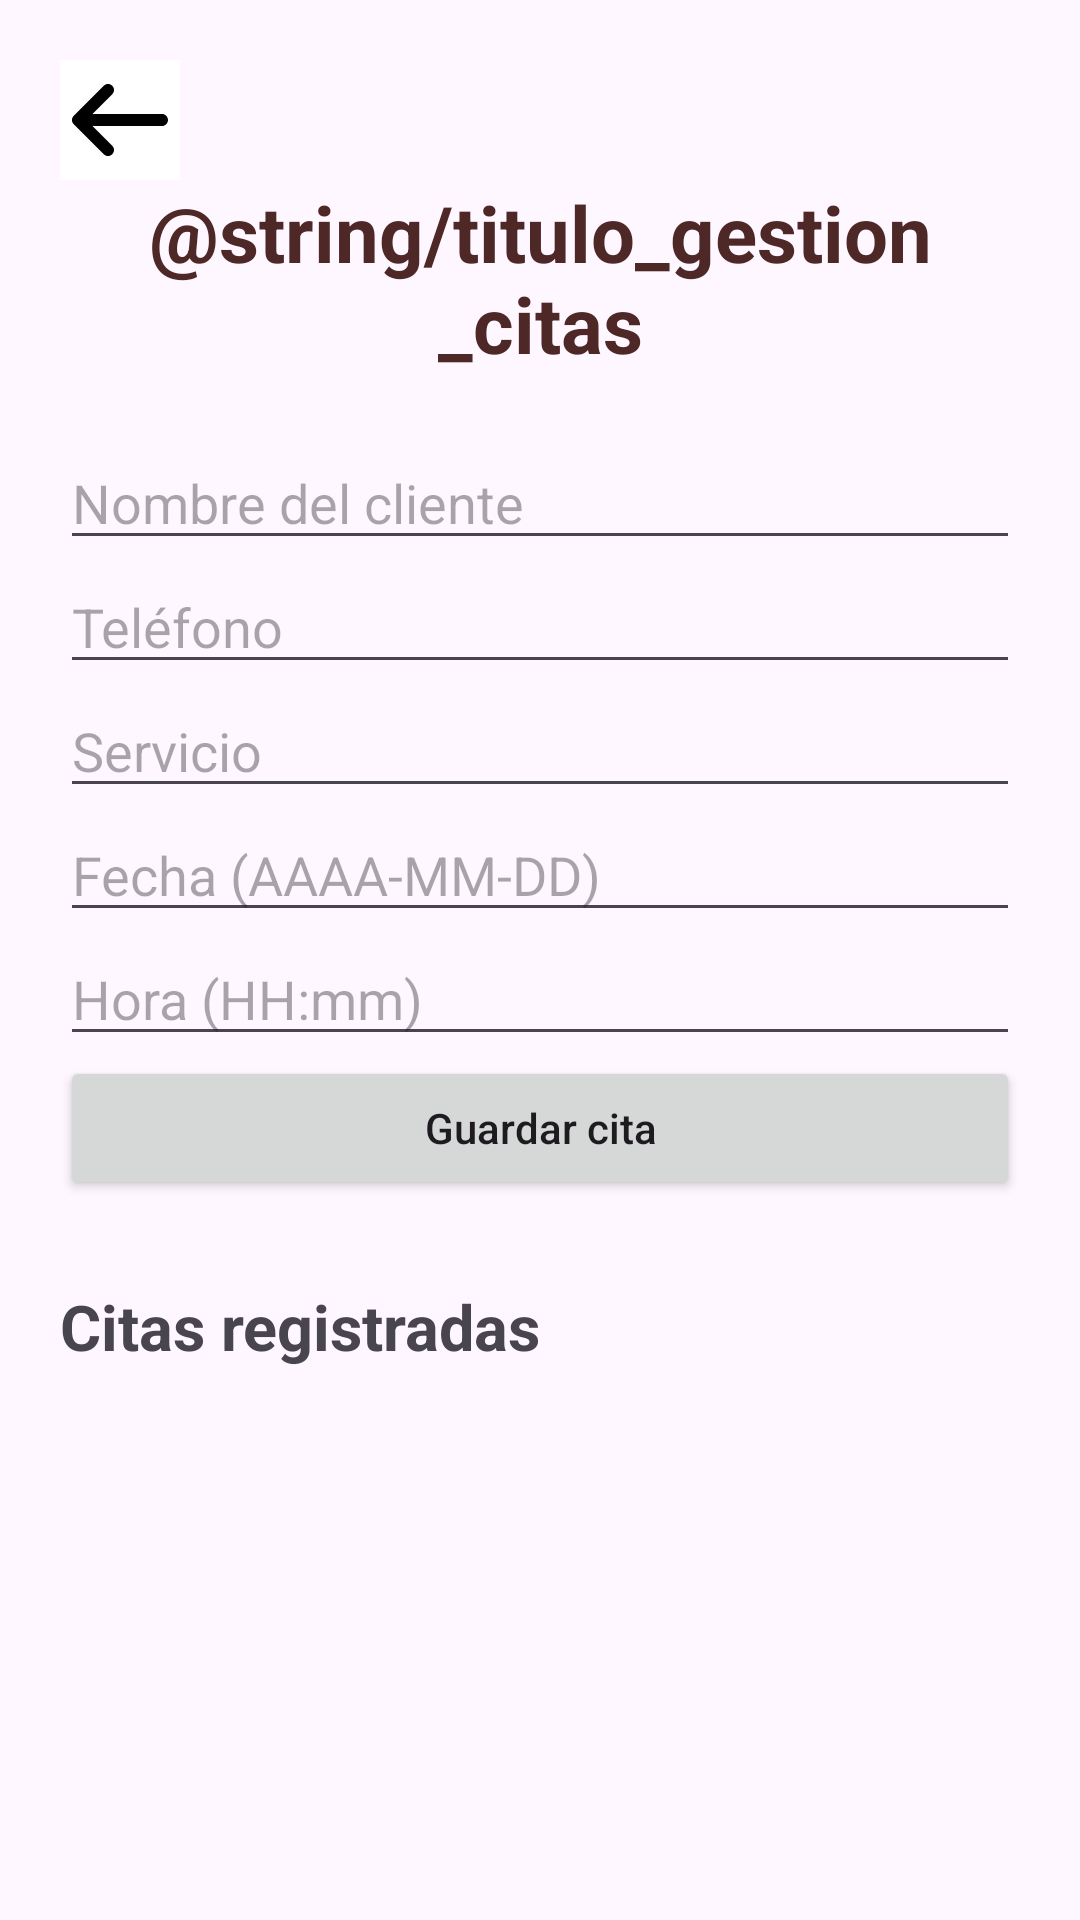

Icon click points for this 1080×1920 phone screenshot, format (x=x, y=y):
arrow left full: (x=120, y=120)
